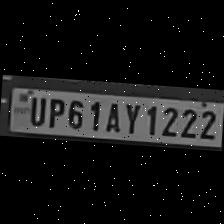1: (84, 96, 104, 130), (139, 100, 158, 134)
2: (156, 102, 179, 136), (195, 105, 216, 138), (176, 104, 197, 136)
6: (62, 94, 86, 128)
A: (100, 97, 122, 131)
P: (44, 93, 64, 127)
U: (24, 92, 46, 125)
Y: (120, 99, 142, 134)
